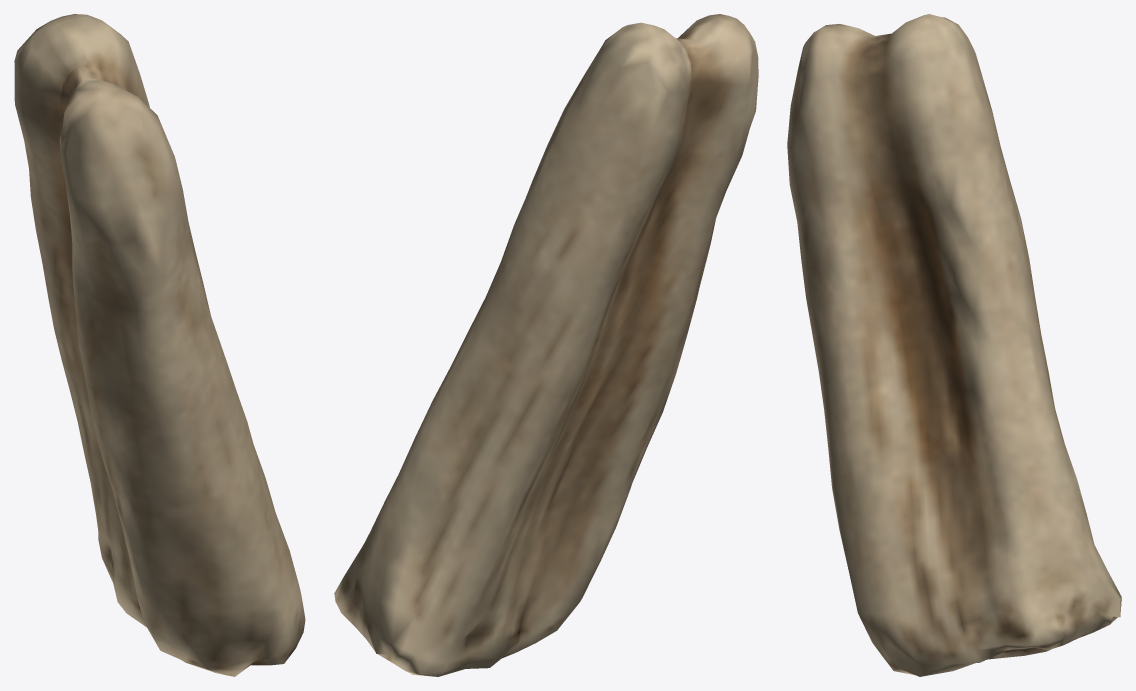
The model's file is Maxilary_Molar2.glb.
3 views of the same model, side by side, from view 1: azimuth 30°, elevation 25°; view 2: azimuth 150°, elevation 25°; view 3: azimuth 270°, elevation 25° (orthographic). The views are drawn at different scales.
Parts seen in each view (by area): view 1: Group2642_Mesh.022; view 2: Group2642_Mesh.022; view 3: Group2642_Mesh.022.
Boxes of the visible parts, x1,y1,x2,y2 form: Group2642_Mesh.022: (14,14,305,676); Group2642_Mesh.022: (334,14,758,676); Group2642_Mesh.022: (787,14,1121,676).
Bounding box in the file's own units: 0.0398 × 0.0812 × 0.0422.
Materials: 1 (1 with a texture image).
